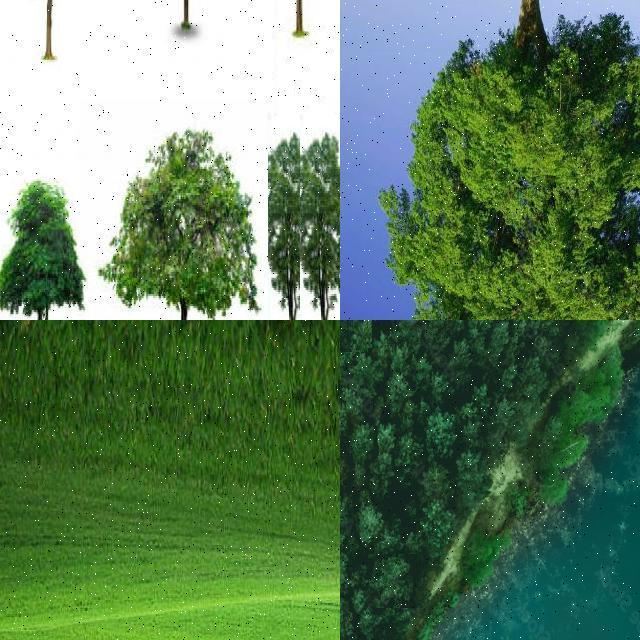tree: (388, 0, 640, 320), (107, 118, 260, 320), (268, 108, 340, 320), (1, 0, 108, 132), (128, 0, 246, 116), (0, 171, 89, 320), (276, 130, 340, 320), (300, 114, 340, 320), (274, 0, 340, 116), (296, 0, 340, 124), (312, 0, 340, 124), (368, 554, 418, 608), (377, 320, 428, 360), (354, 502, 388, 550), (425, 498, 455, 552), (426, 406, 454, 454), (340, 320, 356, 386), (340, 320, 372, 348), (340, 320, 368, 352)
